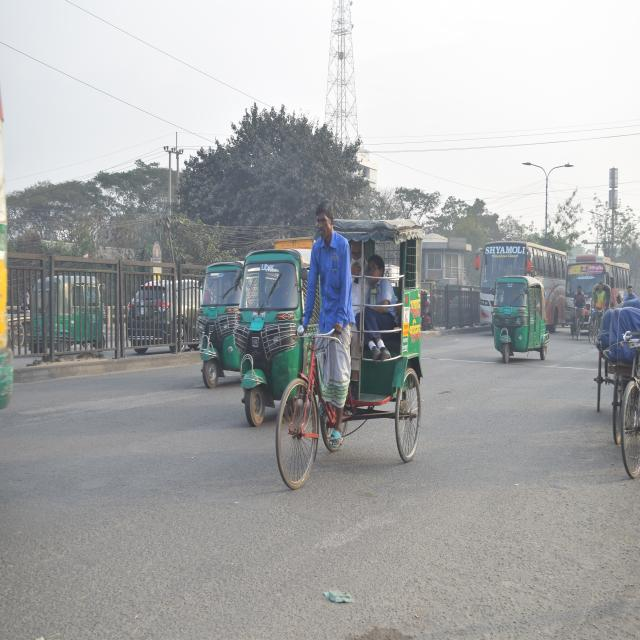bus: (472, 234, 568, 346), (566, 252, 632, 324)
